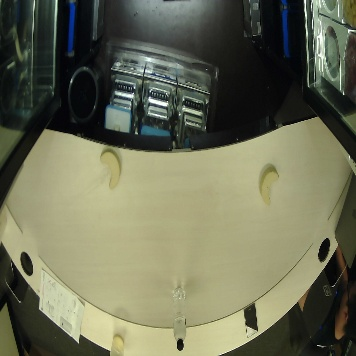puck: (93, 143, 126, 191), (251, 159, 284, 207)
